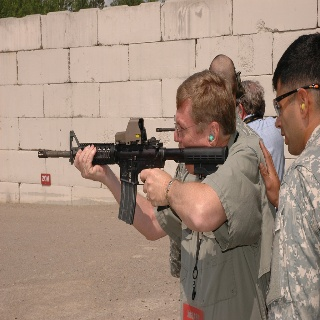rifle: (37, 115, 228, 223)
